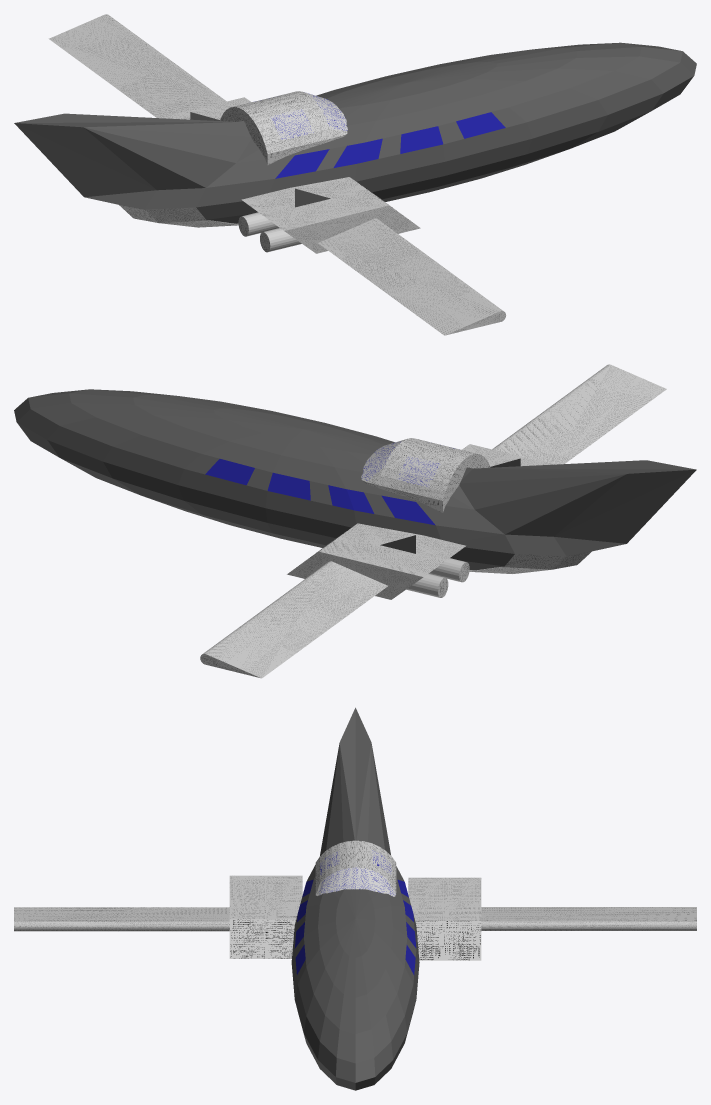
3 views of the same model, one above another, from view 1: azimuth 30°, elevation 25°; view 2: azimuth 150°, elevation 25°; view 3: azimuth 270°, elevation 25° (orthographic). The views are drawn at different scales.
Visible parts, largest first — view 1: mesh1.001_mesh1-geometry, mesh10_mesh10-geometry, mesh5_mesh5-geometry, mesh4_mesh4-geometry, mesh12_mesh12-geometry, mesh9_mesh9-geometry, mesh8_mesh8-geometry; view 2: mesh1.001_mesh1-geometry, mesh5_mesh5-geometry, mesh10_mesh10-geometry, mesh4_mesh4-geometry, mesh12_mesh12-geometry, mesh7_mesh7-geometry, mesh6_mesh6-geometry; view 3: mesh1.001_mesh1-geometry, mesh10_mesh10-geometry, mesh5_mesh5-geometry, mesh4_mesh4-geometry.
Part boxes in pixels (bbox=[...]): mesh1.001_mesh1-geometry: bbox=[14, 42, 696, 223]; mesh10_mesh10-geometry: bbox=[241, 177, 506, 335]; mesh5_mesh5-geometry: bbox=[49, 14, 251, 119]; mesh4_mesh4-geometry: bbox=[220, 91, 347, 164]; mesh12_mesh12-geometry: bbox=[119, 205, 238, 227]; mesh9_mesh9-geometry: bbox=[260, 228, 301, 252]; mesh8_mesh8-geometry: bbox=[238, 212, 279, 236]; mesh1.001_mesh1-geometry: bbox=[14, 389, 696, 570]; mesh5_mesh5-geometry: bbox=[200, 523, 465, 678]; mesh10_mesh10-geometry: bbox=[462, 364, 666, 467]; mesh4_mesh4-geometry: bbox=[361, 438, 490, 512]; mesh12_mesh12-geometry: bbox=[469, 551, 591, 573]; mesh7_mesh7-geometry: bbox=[406, 573, 448, 597]; mesh6_mesh6-geometry: bbox=[429, 558, 469, 582]; mesh1.001_mesh1-geometry: bbox=[291, 707, 419, 1090]; mesh10_mesh10-geometry: bbox=[14, 875, 302, 958]; mesh5_mesh5-geometry: bbox=[408, 877, 696, 960]; mesh4_mesh4-geometry: bbox=[315, 840, 396, 896].
Size of the model in its own units: 0.6932 by 0.1542 by 0.704.
